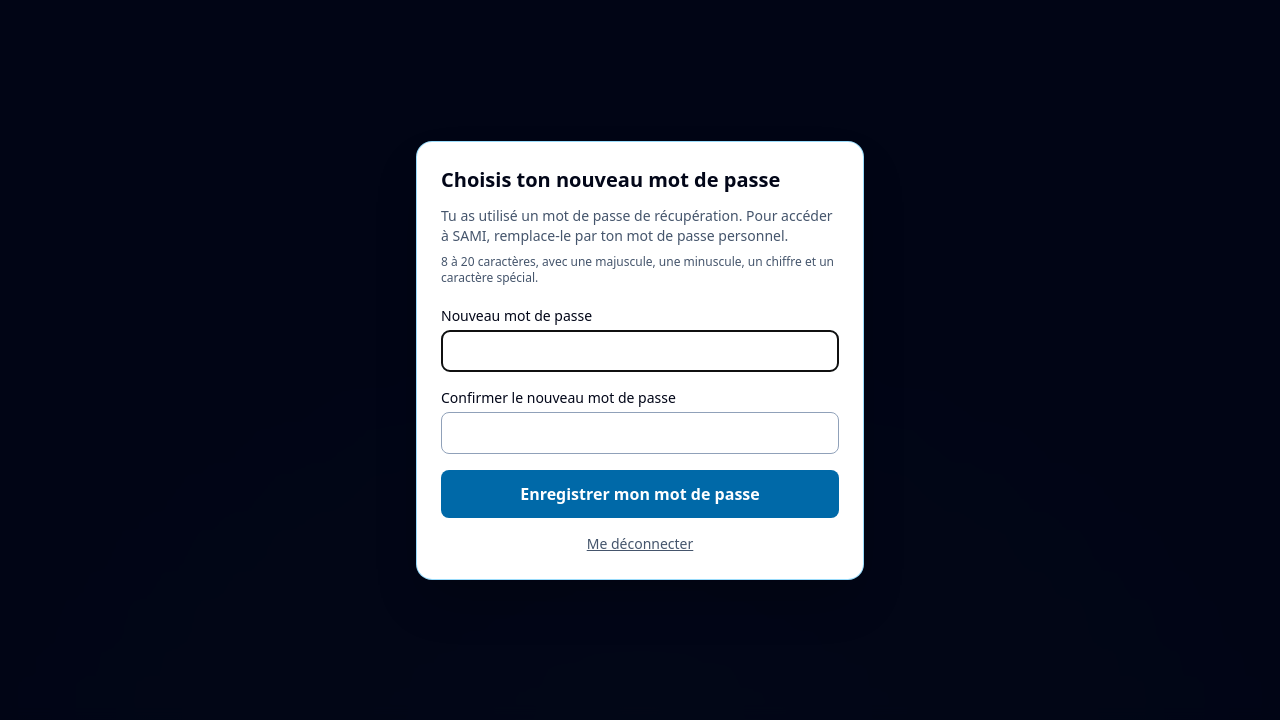
Test case: n’envoie aucune demande si la confirmation diffère
The width and height of the screenshot is (1280, 720).
Type "Personal-123!" into the password field labelled "Nouveau mot de passe".
click(640, 350); type("Personal-123!")  # box x1=441 y1=330 x2=839 y2=372
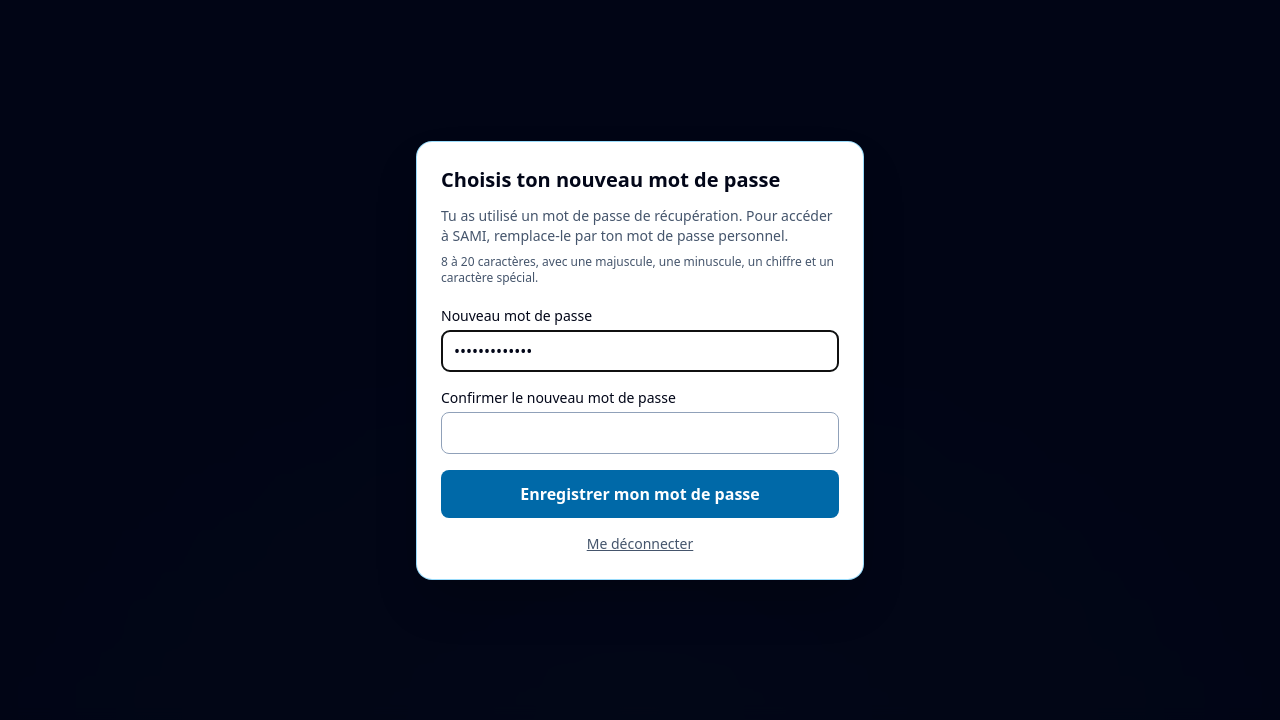
Type "Different-123!" into the password field labelled "Confirmer le nouveau mot de passe".
click(640, 432); type("Different-123!")  # box x1=441 y1=412 x2=839 y2=454
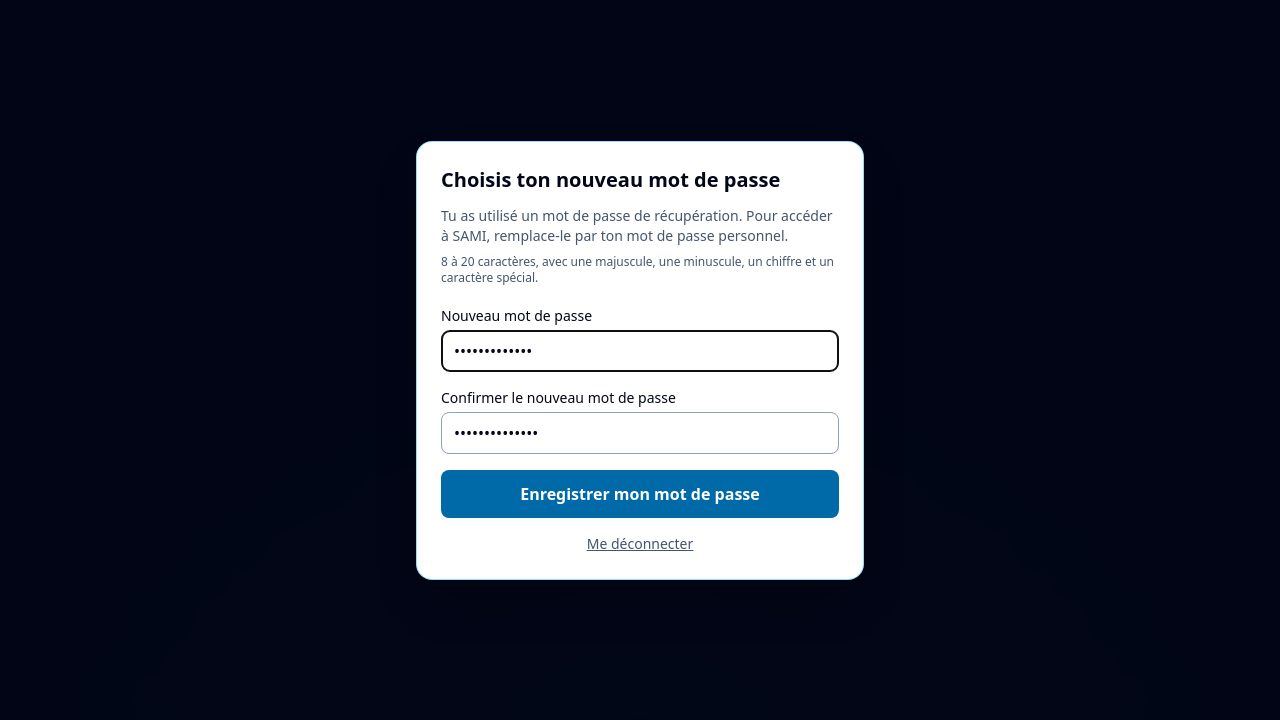
Submit the form named "Enregistrer mon mot de passe", box x1=441 y1=306 x2=839 y2=518
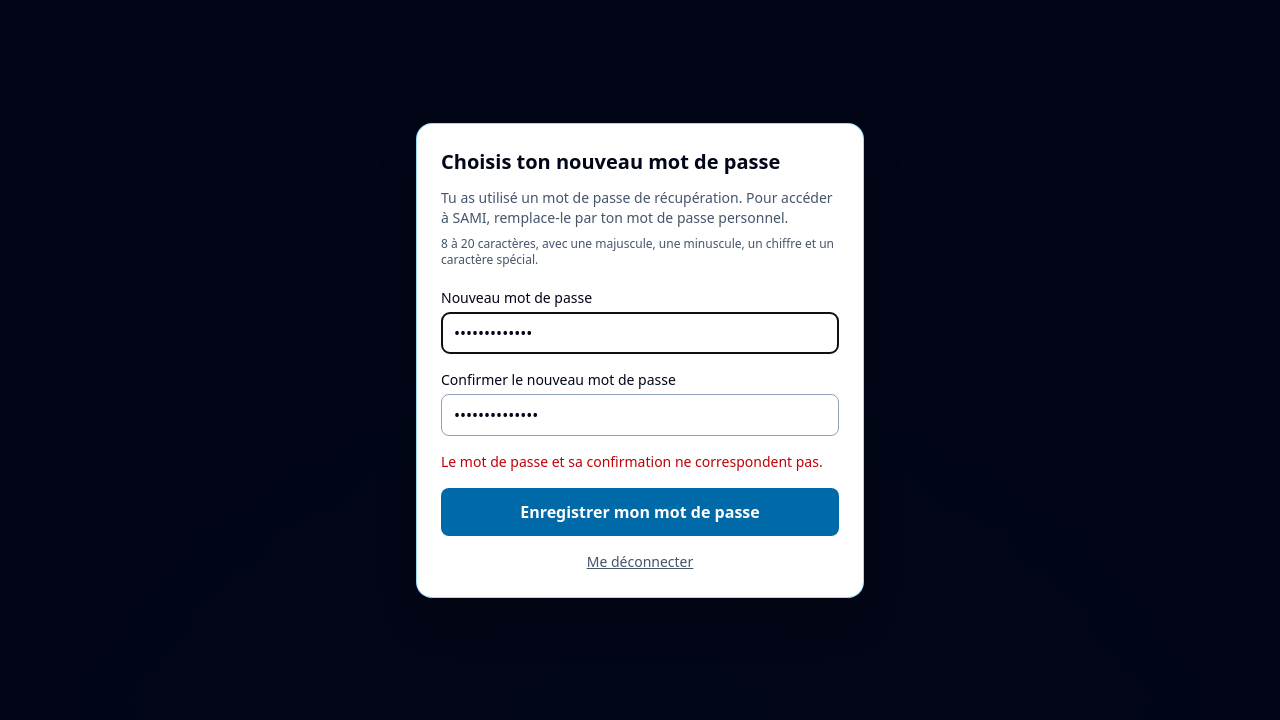
Expected: the message shows "ne correspondent pas", x1=441 y1=452 x2=823 y2=470
